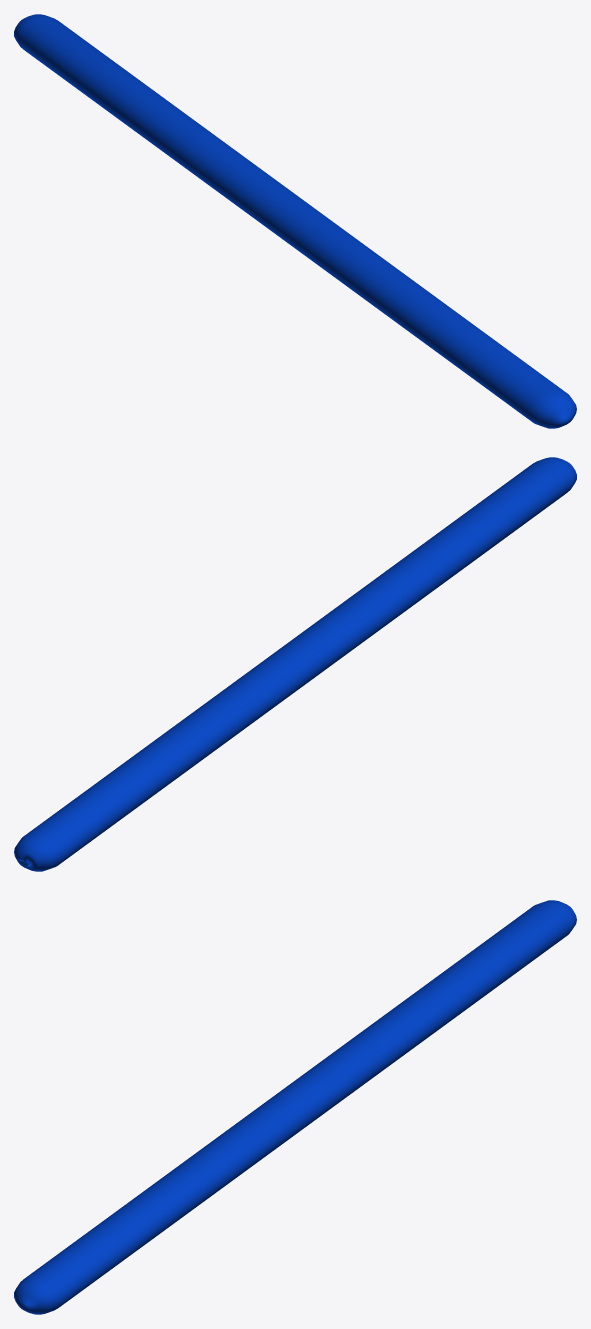
File: Bullet.fbx
3 views of the same model, one above another, from view 1: azimuth 30°, elevation 25°; view 2: azimuth 150°, elevation 25°; view 3: azimuth 330°, elevation 25° (orthographic).
Parts seen in each view (by area): view 1: Bullet; view 2: Bullet; view 3: Bullet.
Part boxes in pixels (box(x1,y1,x2,y2)): Bullet: box(14, 14, 576, 428); Bullet: box(14, 457, 576, 871); Bullet: box(14, 900, 576, 1314).
Bounding box in the file's own units: 13.67 × 9.94 × 291.
